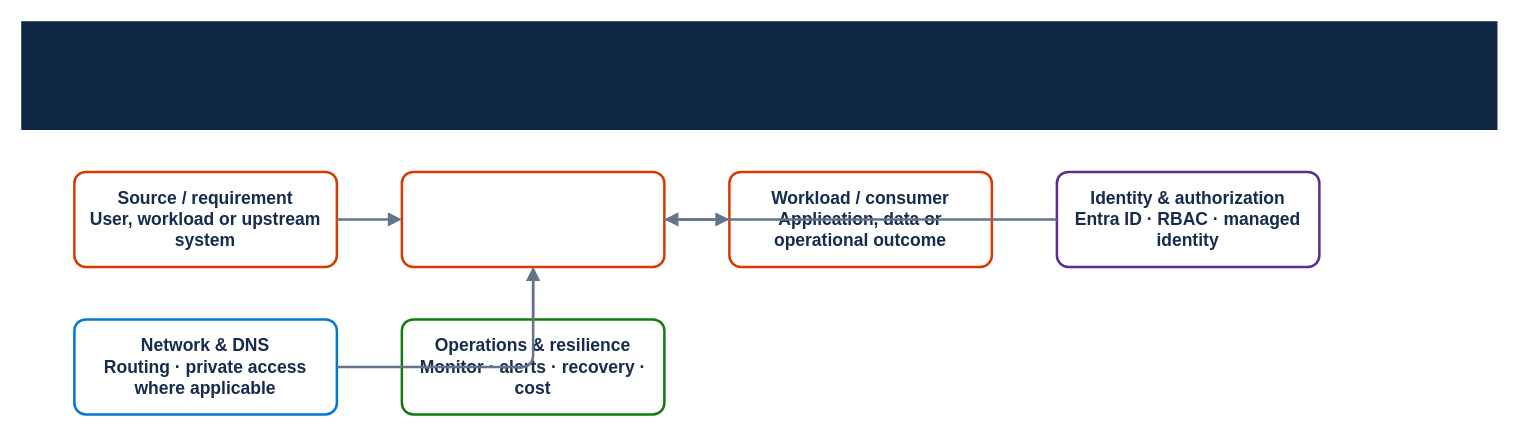
This 1519x438 diagram has some shape labels left out. Each missing label, with the box of its shape:
Azure Service Bus: (21, 21, 1497, 129)
Azure Service Bus Azure service / architecture control: (400, 170, 665, 268)
